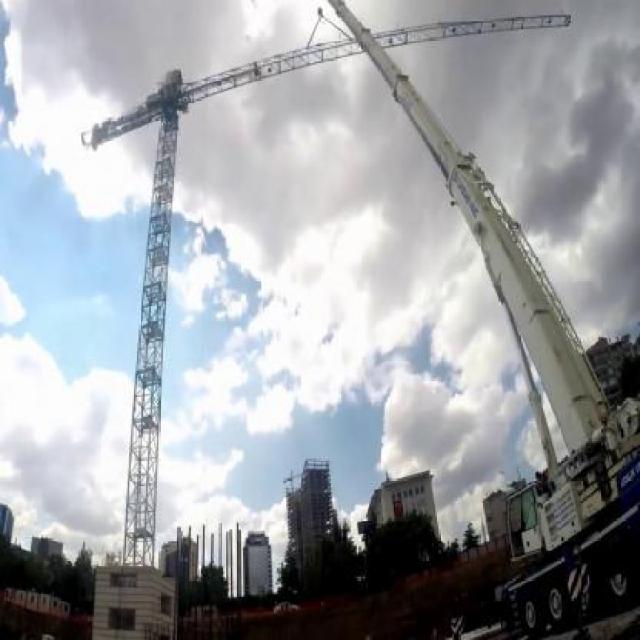Mobile Crane: (327, 0, 640, 626)
